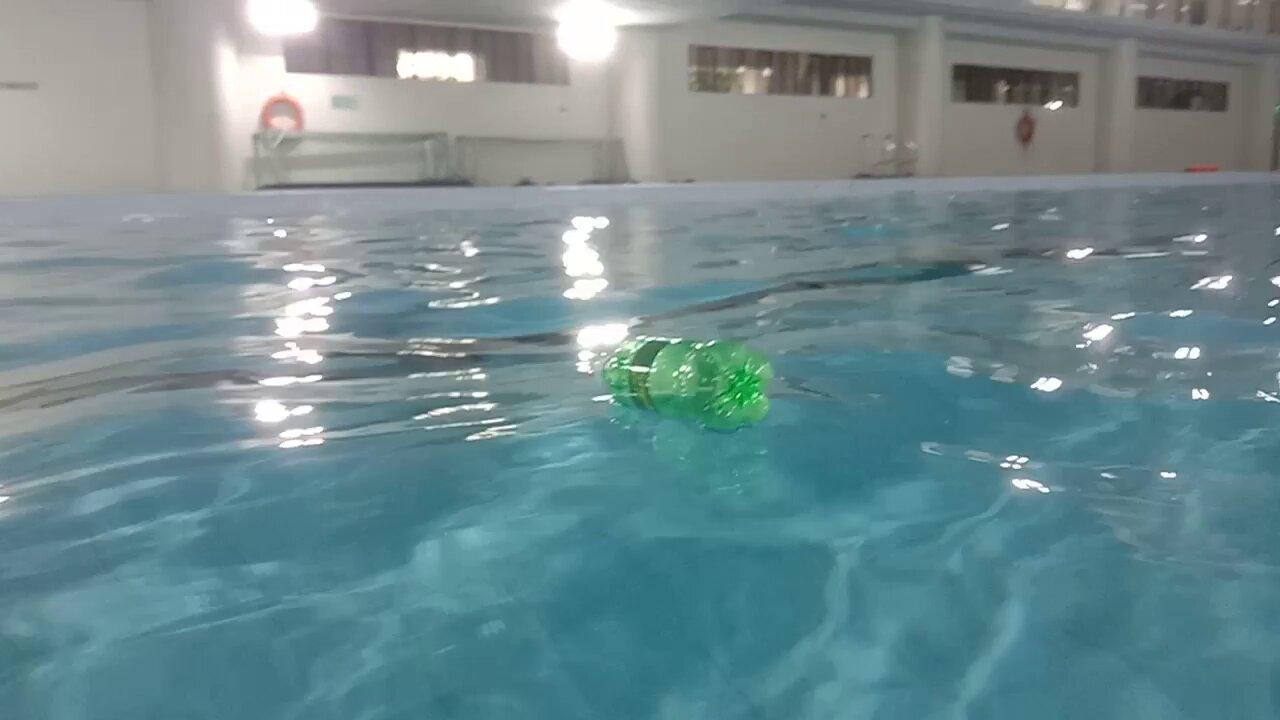plastic_bottle: (602, 336, 773, 426)
